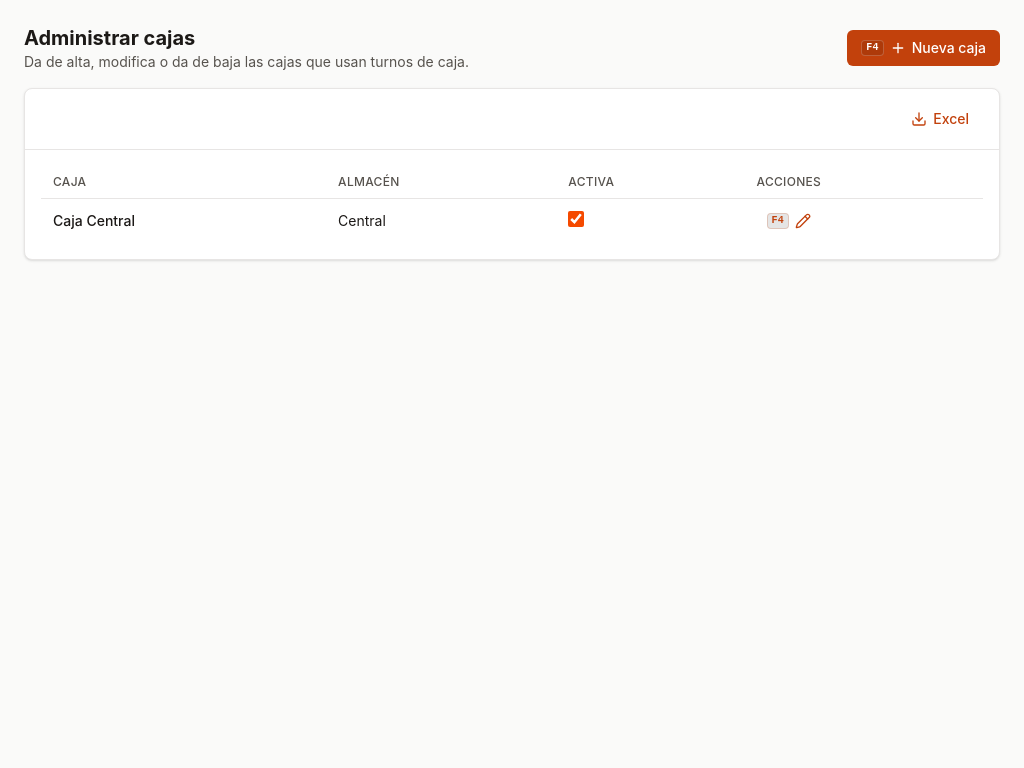
Test: CajasAdminPage (profundización) › valida nombre y almacén obligatorios
Check: the text "Caja Central" is shown, box [53, 212, 135, 229]
Click the button "F4 Nueva caja" at {"x": 924, "y": 48}, box [847, 30, 1000, 66]
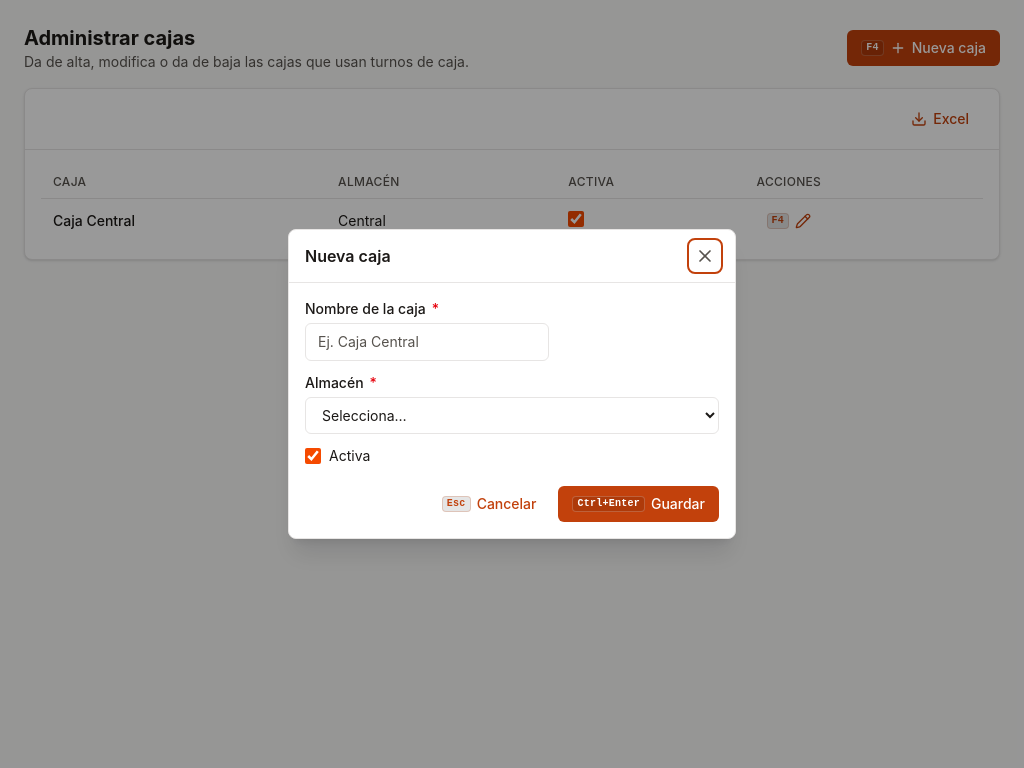
Click the button "Ctrl+Enter Guardar" at {"x": 639, "y": 504}, box [558, 486, 719, 522]
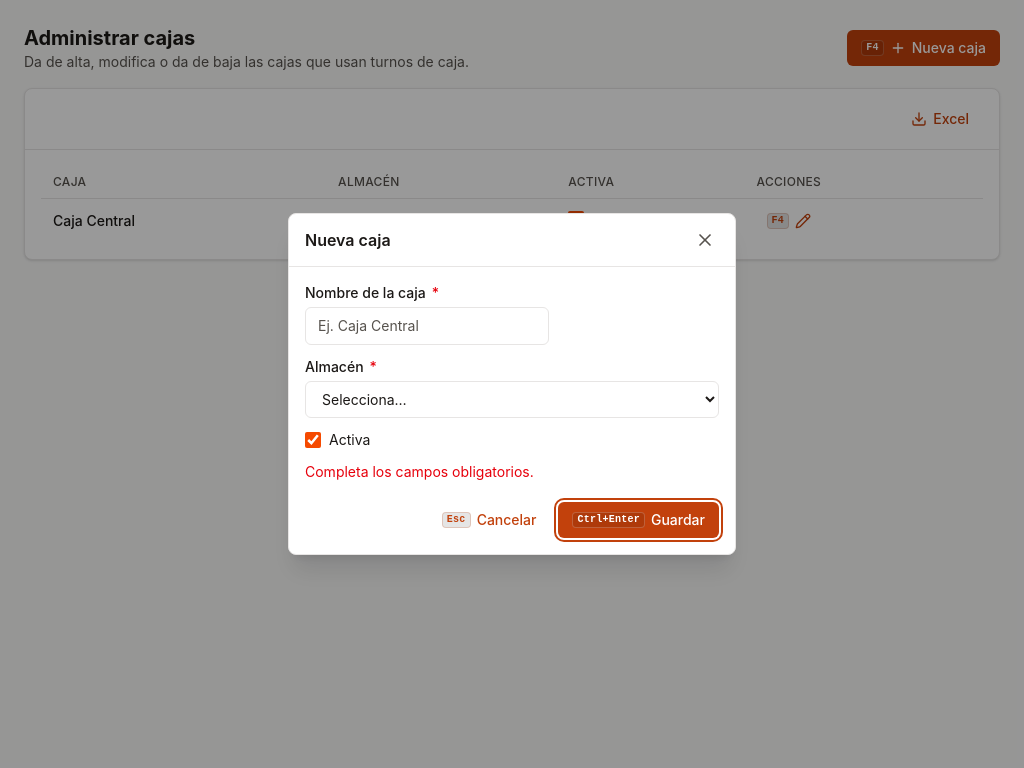
Check: the text "Completa los campos obligatorios." is shown, box [305, 463, 534, 480]
